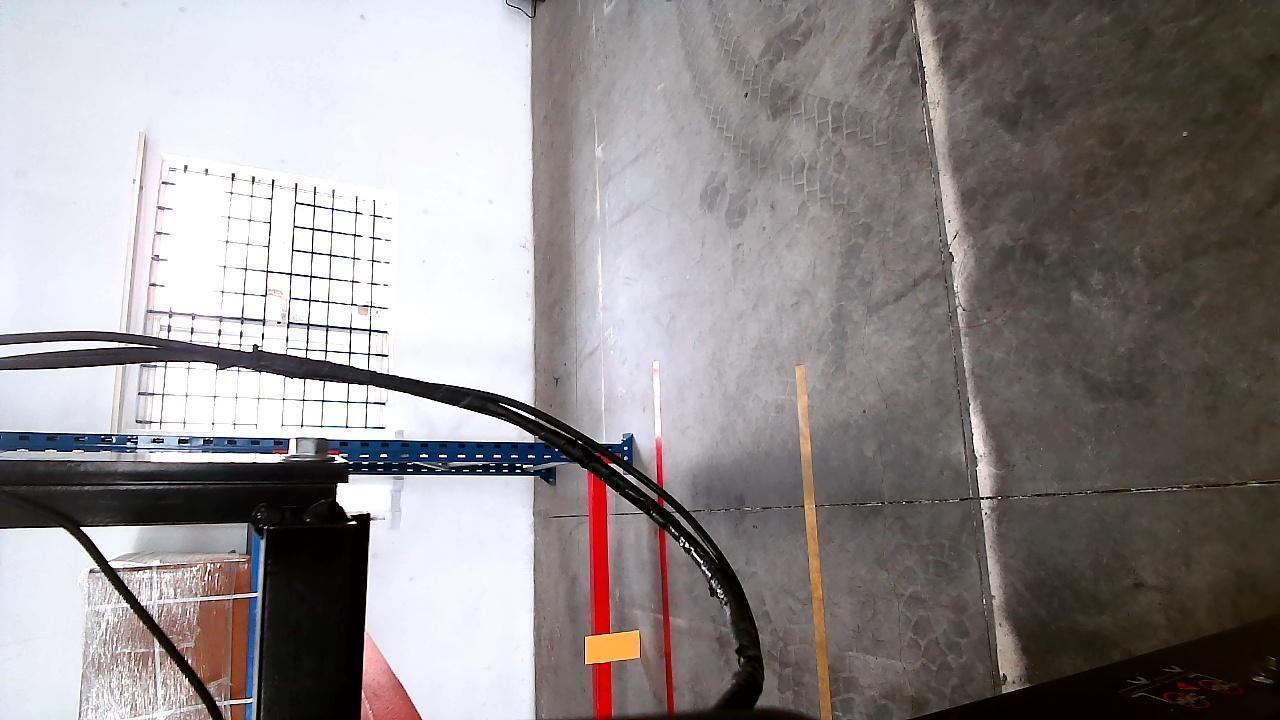red_line: (652, 367, 675, 711)
yellow_line: (792, 364, 834, 720)
